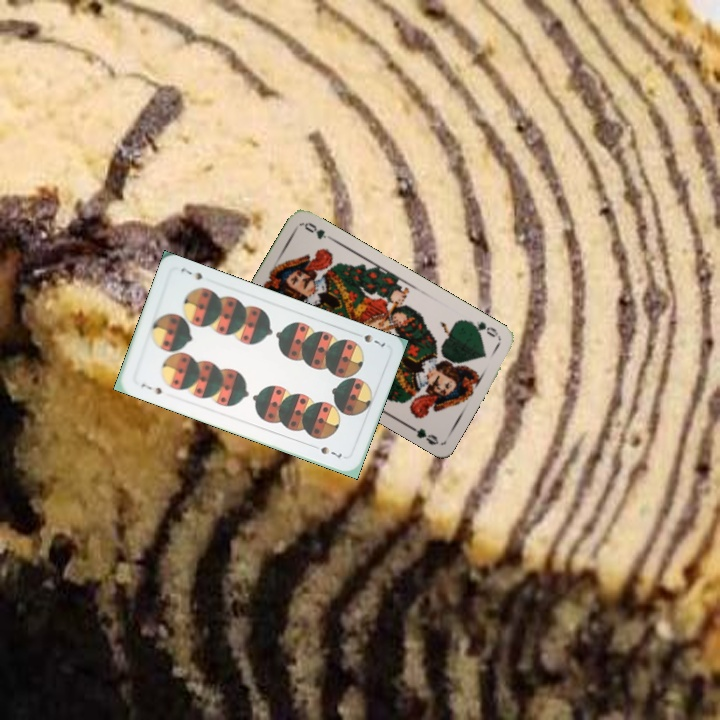GO: (464, 316, 502, 340)
S7: (360, 330, 388, 349), (137, 379, 165, 397)
